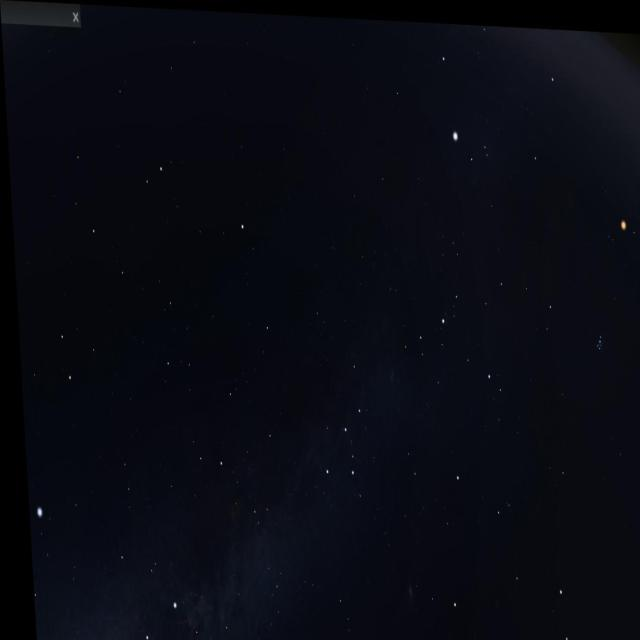cassiopeia: (309, 326, 379, 504)
pleiades: (584, 312, 608, 357)
